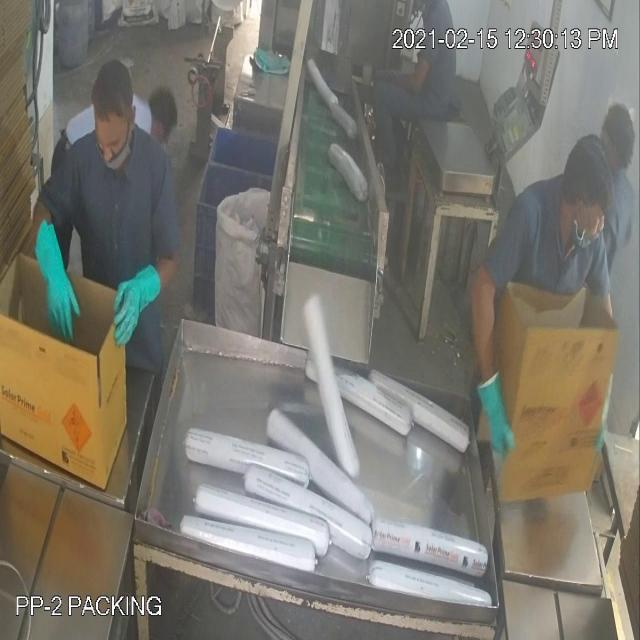Gloves: (54, 44, 496, 414)
